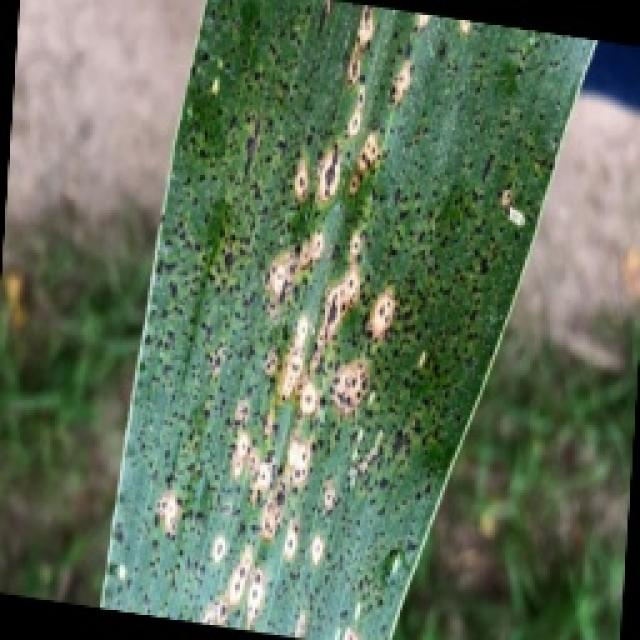Tar_Spot: (208, 130, 428, 460)
